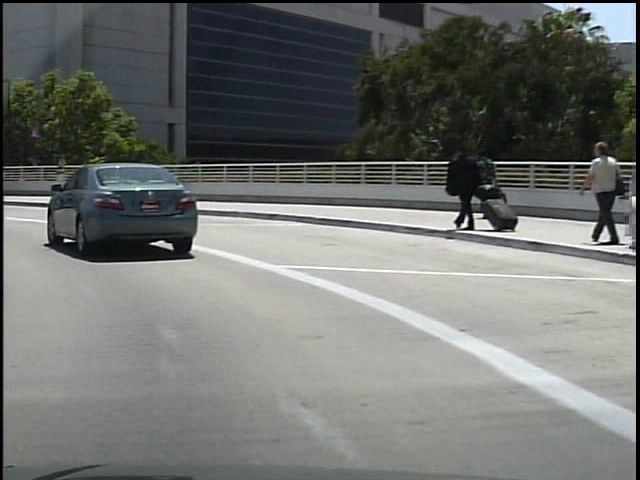person: (575, 137, 621, 249), (442, 139, 482, 228), (467, 143, 502, 219)
